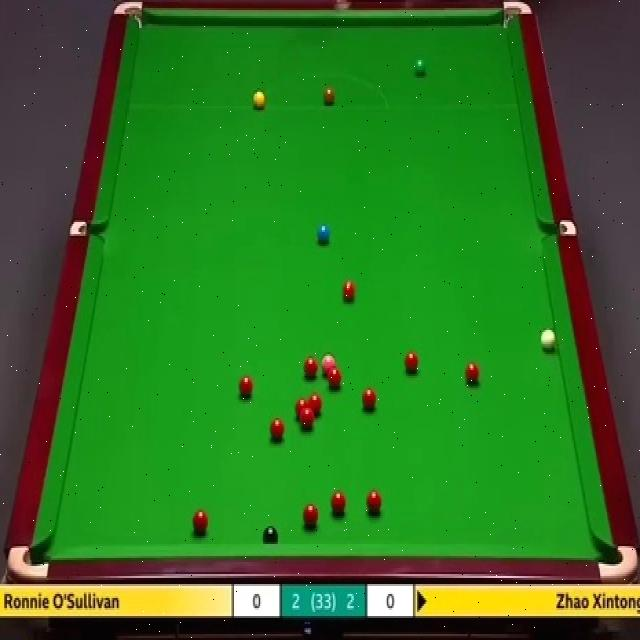black-ball: (262, 526, 279, 545)
blue-ball: (316, 220, 330, 245)
brown-ball: (323, 88, 335, 106)
green-ball: (412, 58, 427, 78)
pink-ball: (323, 354, 336, 376)
red-ball: (403, 349, 420, 378), (192, 509, 209, 534), (366, 489, 382, 515), (341, 277, 355, 305), (239, 377, 255, 401), (464, 359, 480, 383), (331, 491, 346, 516), (361, 387, 376, 412), (304, 503, 318, 528), (308, 394, 322, 418), (270, 418, 284, 441), (328, 366, 342, 388), (304, 359, 318, 378), (301, 410, 314, 430), (295, 398, 308, 418)
white-ball: (540, 326, 558, 354)
yellow-ball: (252, 89, 265, 109)
